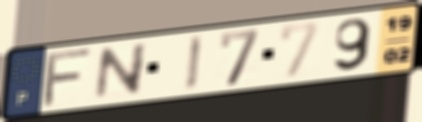7: (276, 19, 325, 83), (217, 26, 263, 89)
9: (331, 17, 373, 73)
F: (39, 46, 97, 110)
I: (182, 32, 206, 94)
N: (91, 41, 151, 103)
